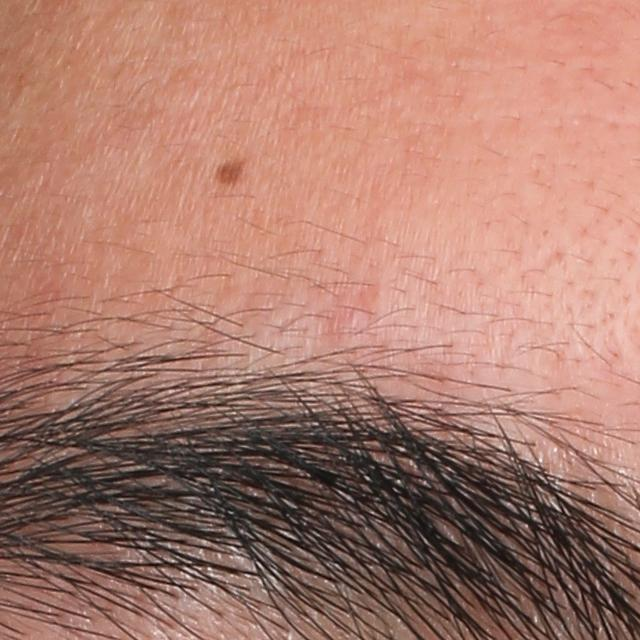nevus: (207, 155, 250, 193)
